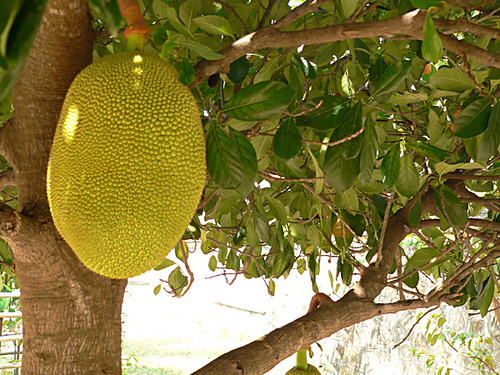jackfruit: (45, 52, 205, 277)
